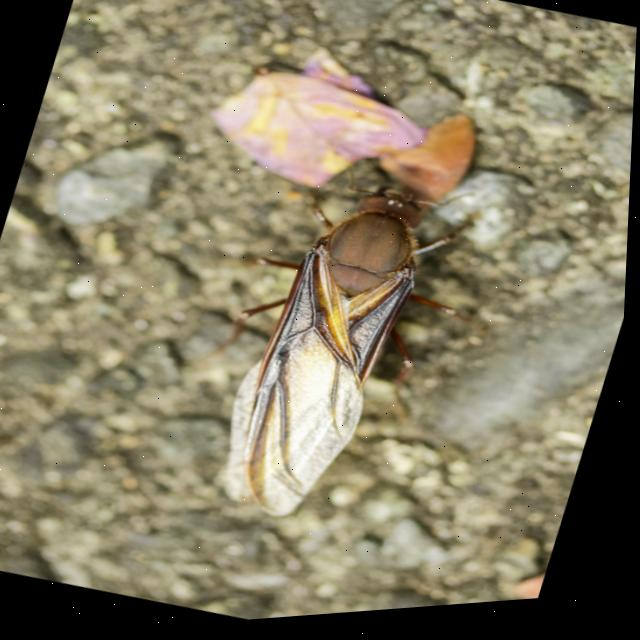Alive-Female-Alate: (162, 146, 510, 565)
